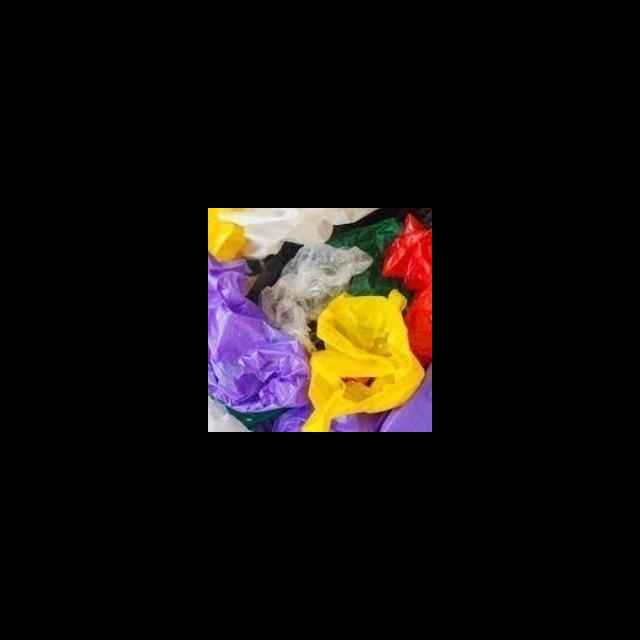plastic: (208, 208, 432, 432)
